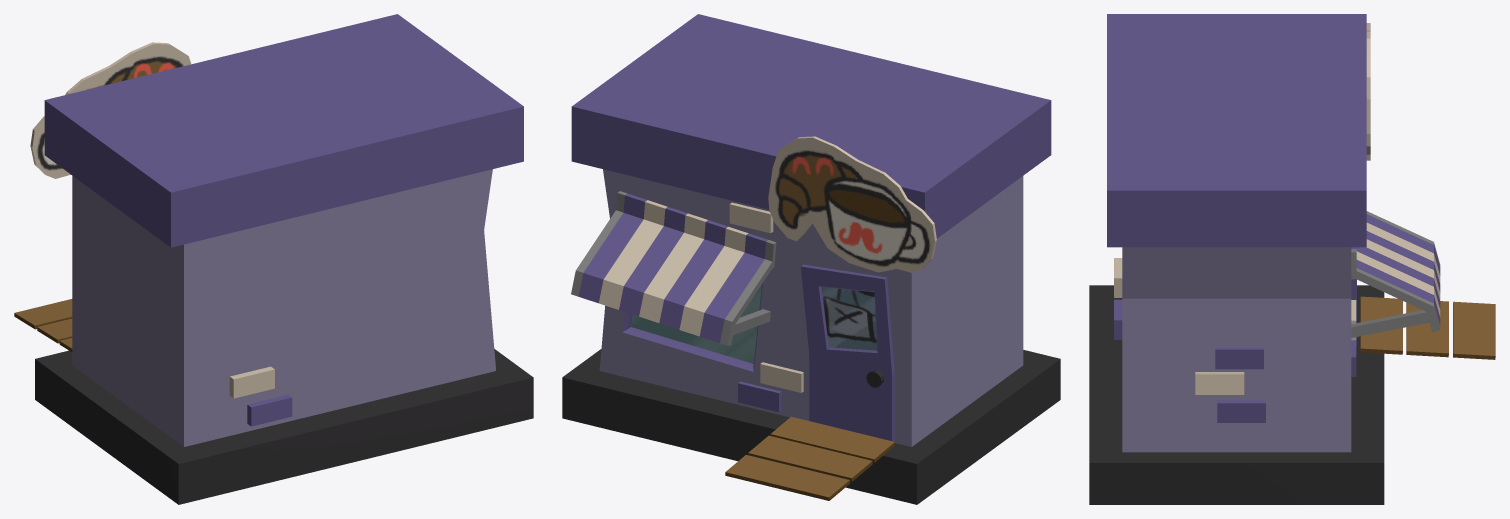
File: SM_Bakery.fbx
3 views of the same model, side by side, from view 1: azimuth 30°, elevation 25°; view 2: azimuth 150°, elevation 25°; view 3: azimuth 270°, elevation 25° (orthographic). The views are drawn at different scales.
Parts seen in each view (by area): view 1: bakery.001, Cube.056, maderasSuelo.003, brick.029, brick.030; view 2: bakery.001, Cube.056, maderasSuelo.003, brick.007, brick.005, brick.006; view 3: bakery.001, Cube.056, maderasSuelo.003, brick.009, brick.008, brick.010.
Part boxes in pixels (box(x1,y1,x2,y2)): bakery.001: box(30, 14, 523, 446); Cube.056: box(35, 349, 533, 504); maderasSuelo.003: box(14, 299, 72, 351); brick.029: box(247, 394, 292, 426); brick.030: box(229, 366, 274, 398); bakery.001: box(571, 14, 1051, 446); Cube.056: box(562, 349, 1060, 504); maderasSuelo.003: box(725, 416, 894, 500); brick.007: box(729, 202, 773, 233); brick.005: box(760, 362, 803, 392); brick.006: box(738, 381, 781, 412); bakery.001: box(1107, 14, 1440, 452); Cube.056: box(1089, 285, 1384, 504); maderasSuelo.003: box(1360, 296, 1495, 359); brick.009: box(1195, 372, 1244, 394); brick.008: box(1217, 400, 1265, 422); brick.010: box(1215, 347, 1263, 369).
Size of the model in its own units: 473 by 414 by 443.
